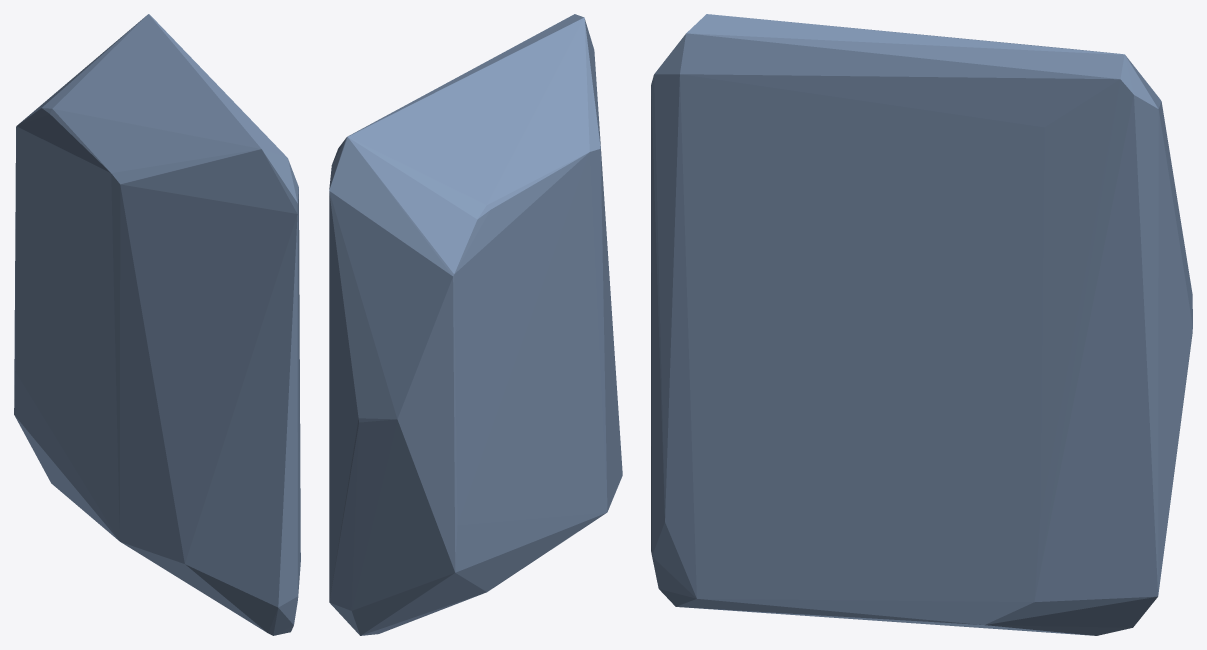
The model's file is monitor_a03.glb.
3 views of the same model, side by side, from view 1: azimuth 30°, elevation 25°; view 2: azimuth 150°, elevation 25°; view 3: azimuth 270°, elevation 25° (orthographic). The views are drawn at different scales.
Visible parts, largest first — view 1: geometry_0; view 2: geometry_0; view 3: geometry_0.
Boxes of the visible parts, left/top/right/bottom form: geometry_0: left=14, top=14, right=300, bottom=635; geometry_0: left=329, top=14, right=622, bottom=635; geometry_0: left=651, top=14, right=1192, bottom=635.
Size of the model in its own units: 0.1552 by 0.4787 by 0.3928.
